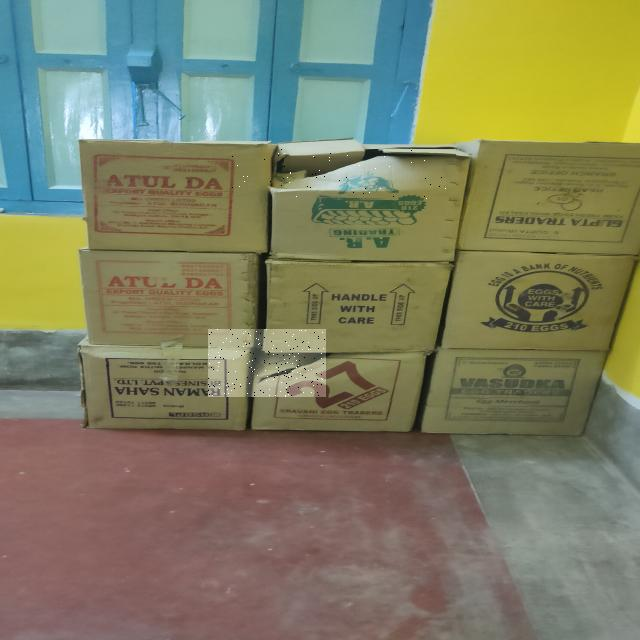squeeze: (232, 149, 456, 199), (209, 329, 325, 397)
